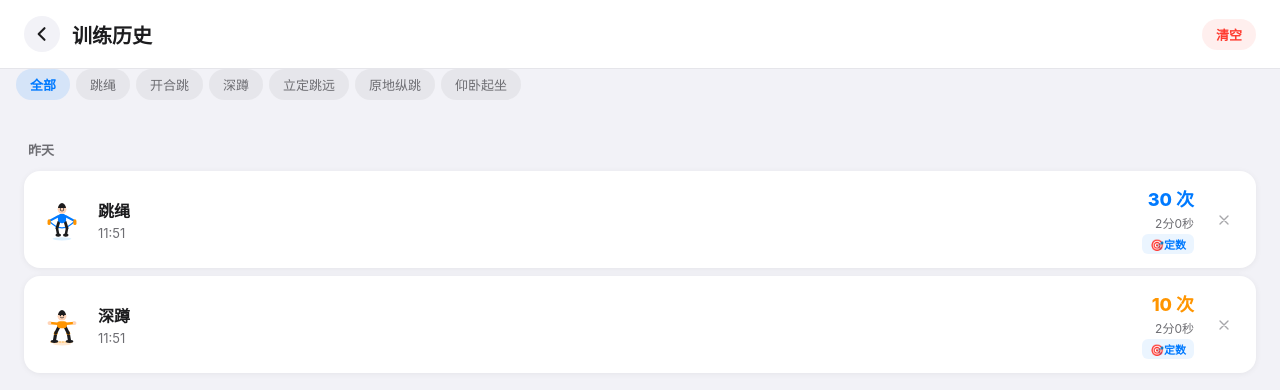
HistoryPage › history list › filters by exercise type when a filter tab is clicked
Expected: the text "10 次" is shown, [1152,290,1194,316]
Expected: the text "30 次" is shown, [1148,185,1194,211]
Note: 点击"跳绳"筛选
Click the button "跳绳" at (103, 84), box [76,69,130,100]
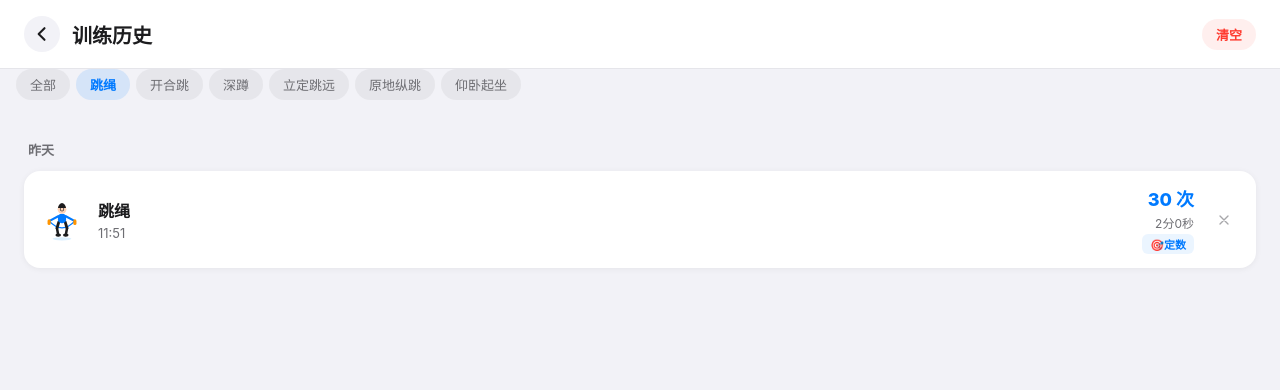
Expected: the text "30 次" is shown, [1148,185,1194,211]
Result: the button "10 次" is gone
